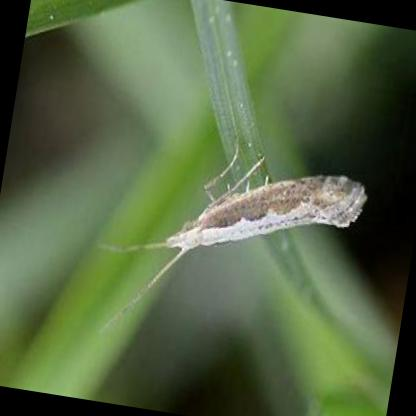plutella: (84, 115, 372, 333)
